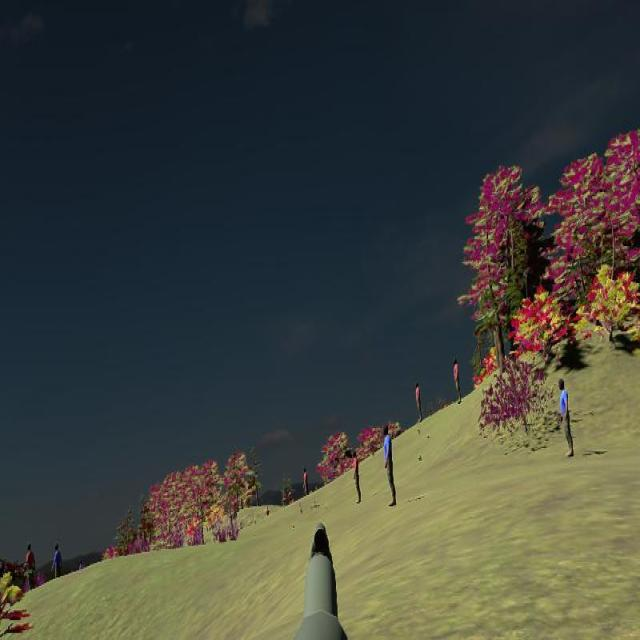Human: (558, 378, 574, 457), (384, 422, 396, 506)
